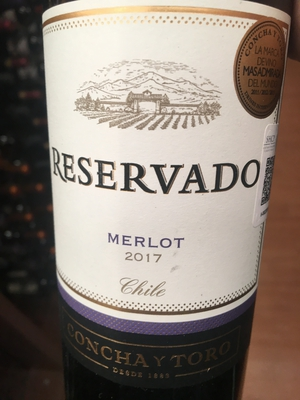reservado merlot: (37, 2, 293, 400)
